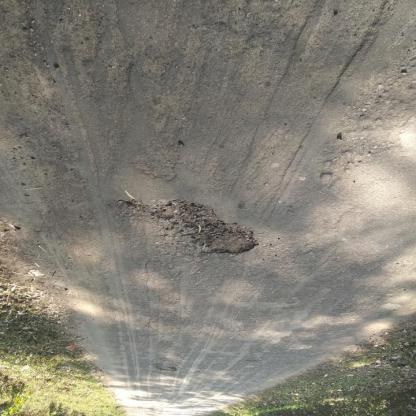pothole: (154, 200, 263, 259), (157, 366, 180, 376)
